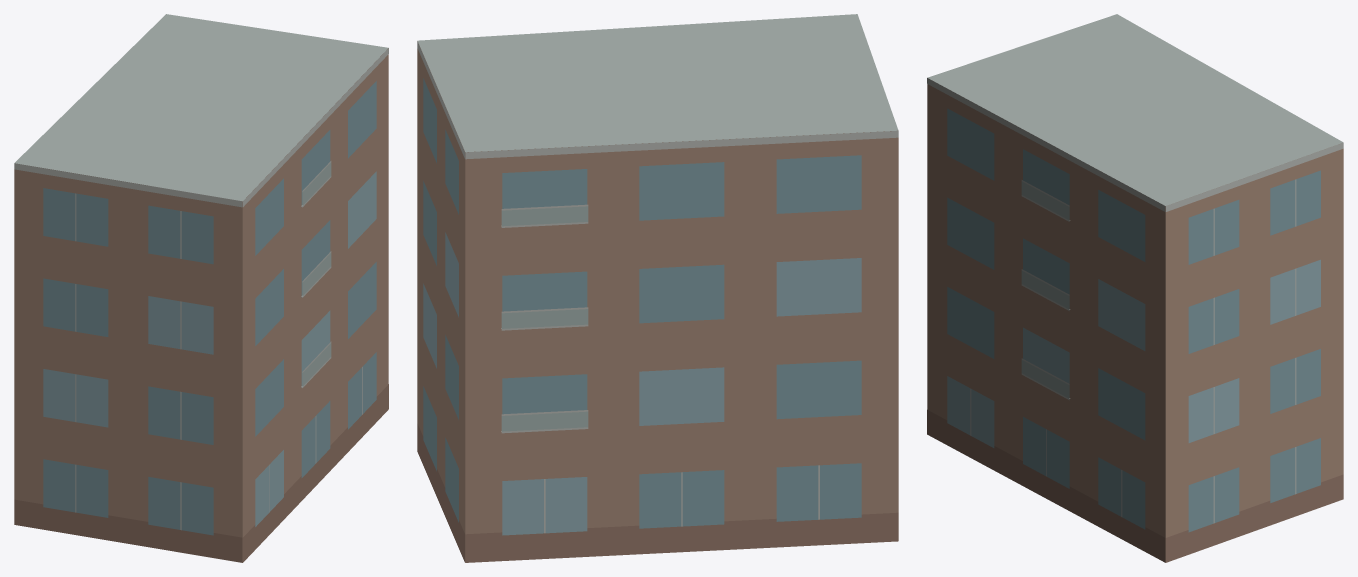
Rendered from survey-upis-32799206.glb.
3 renders of one model, left to right at view 1: azimuth 30°, elevation 25°; view 2: azimuth 150°, elevation 25°; view 3: azimuth 270°, elevation 25°, orthographic. The views are drawn at different scales.
Visible parts, largest first — view 1: survey-upis-32799206.tmp; view 2: survey-upis-32799206.tmp; view 3: survey-upis-32799206.tmp.
Part boxes in pixels (x1=…): survey-upis-32799206.tmp: x1=14, y1=14, x2=388, y2=562; survey-upis-32799206.tmp: x1=417, y1=14, x2=898, y2=562; survey-upis-32799206.tmp: x1=927, y1=14, x2=1343, y2=562.
Bounding box in the file's own units: 16.53 × 14.3 × 15.14.
